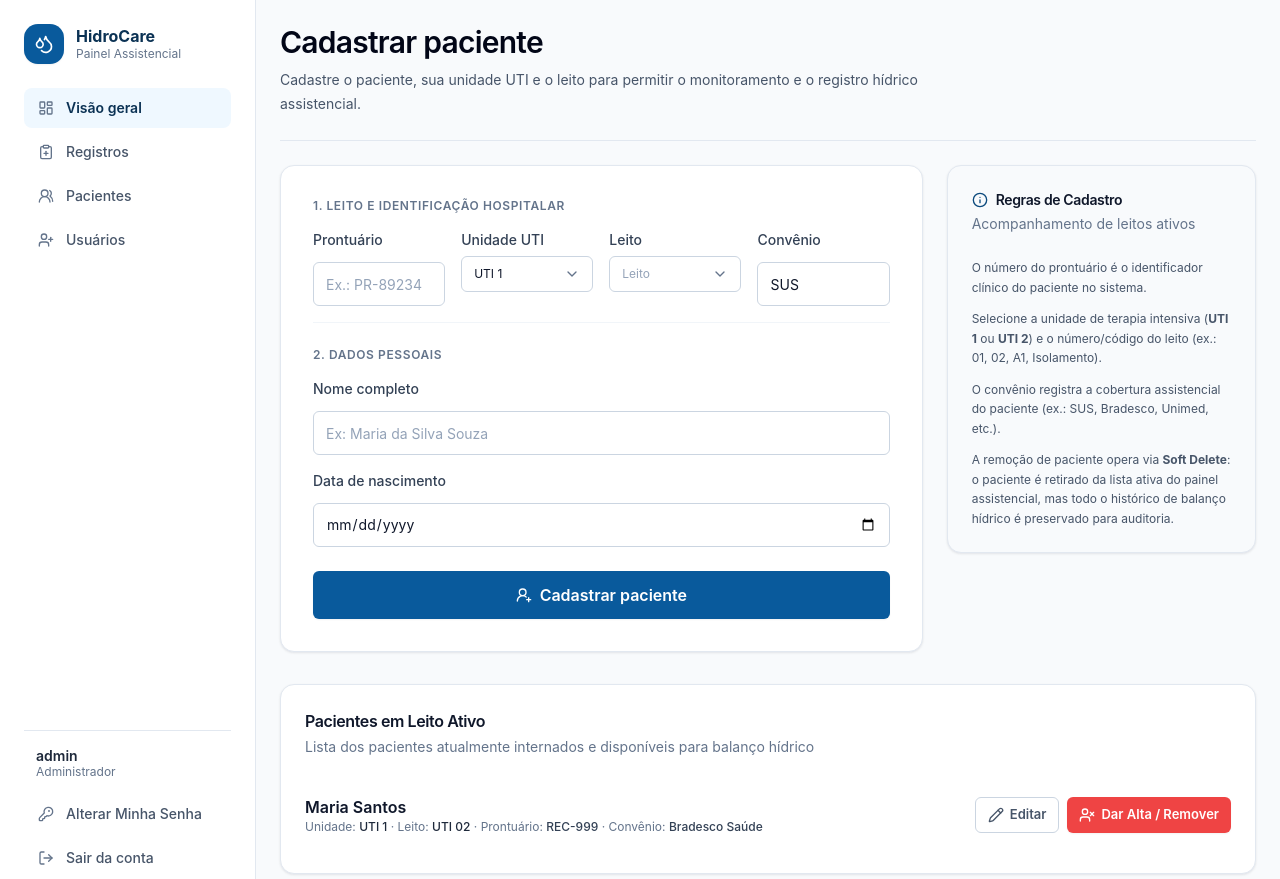
Test case: PatientsPage with Convênio › renders active patients displaying insurance details and handles archiving
expect the text "Maria Santos" is shown: met, box [305,797,406,817]
expect the text "Bradesco Saúde" is shown: met, box [669,819,763,834]
Note: Click "Dar Alta / Remover" button
What coordinates should you click on to do the following:
click the button "Dar Alta / Remover"
I would click on:
 (1149, 815)
Its box is [1067,797,1231,833].
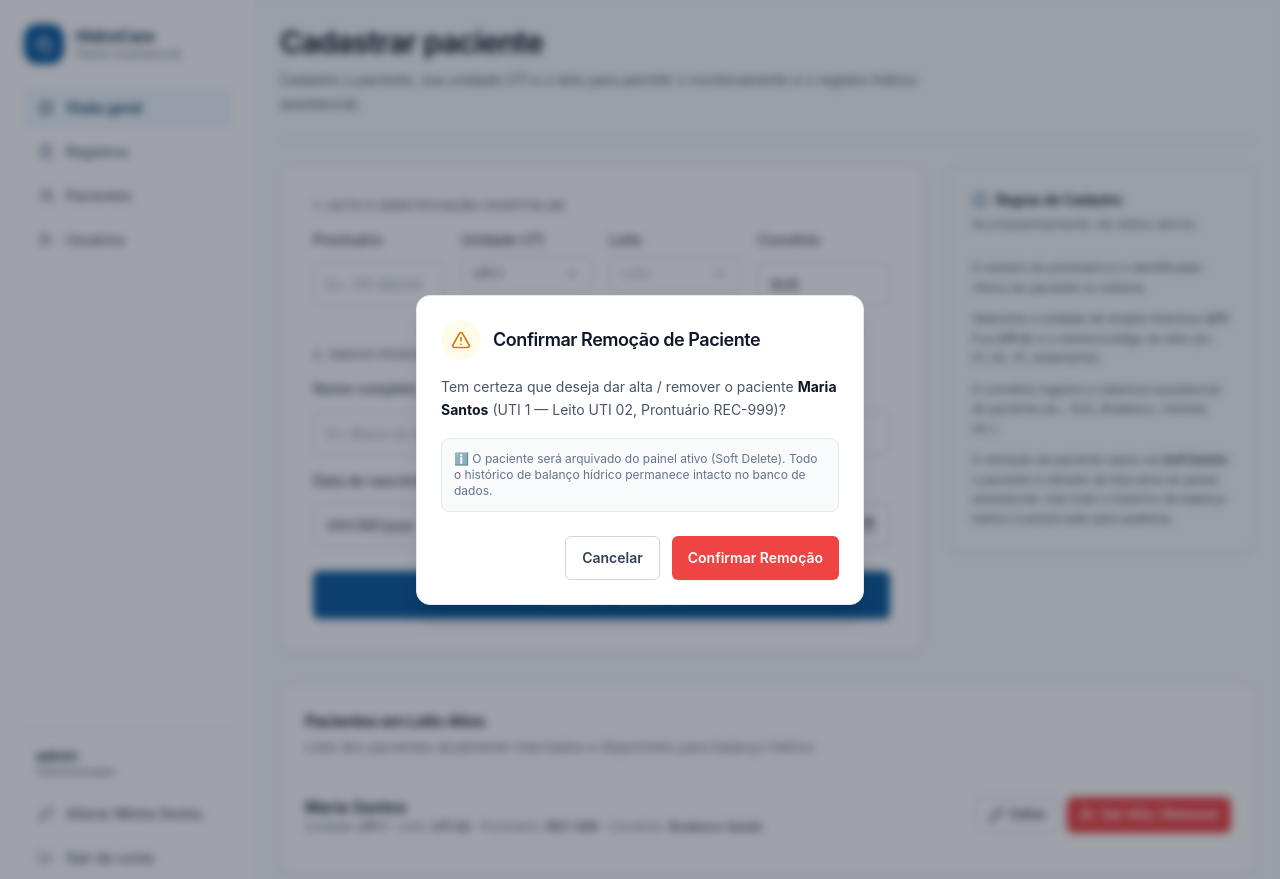
expect the heading "Confirmar Remoção de Paciente" is shown: met, box [493,326,760,354]
Note: Click "Confirmar Remoção"
What coordinates should you click on to do the following:
click the button "Confirmar Remoção"
I would click on:
 (755, 558)
Its box is [672,536,839,580].
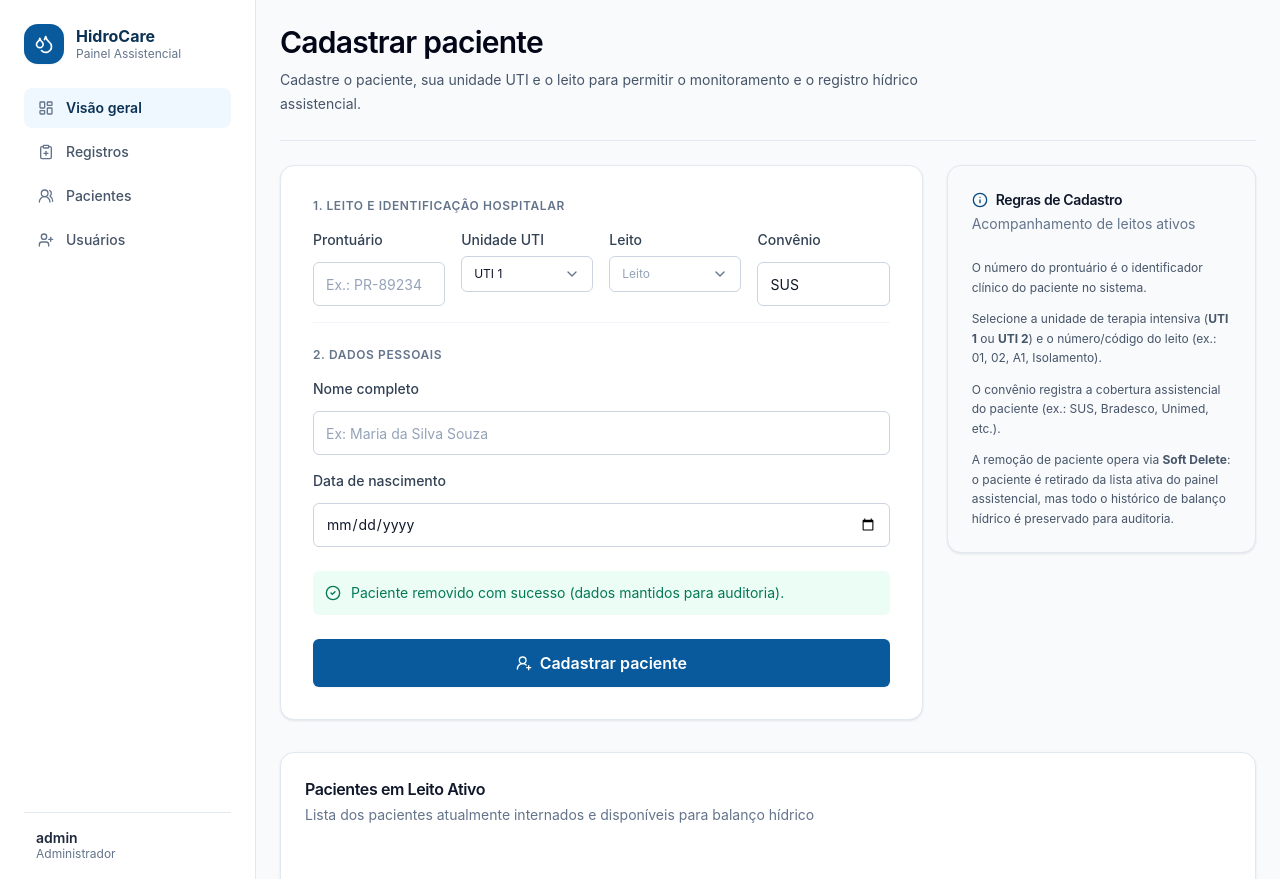
expect the text "Maria Santos" is gone: met
